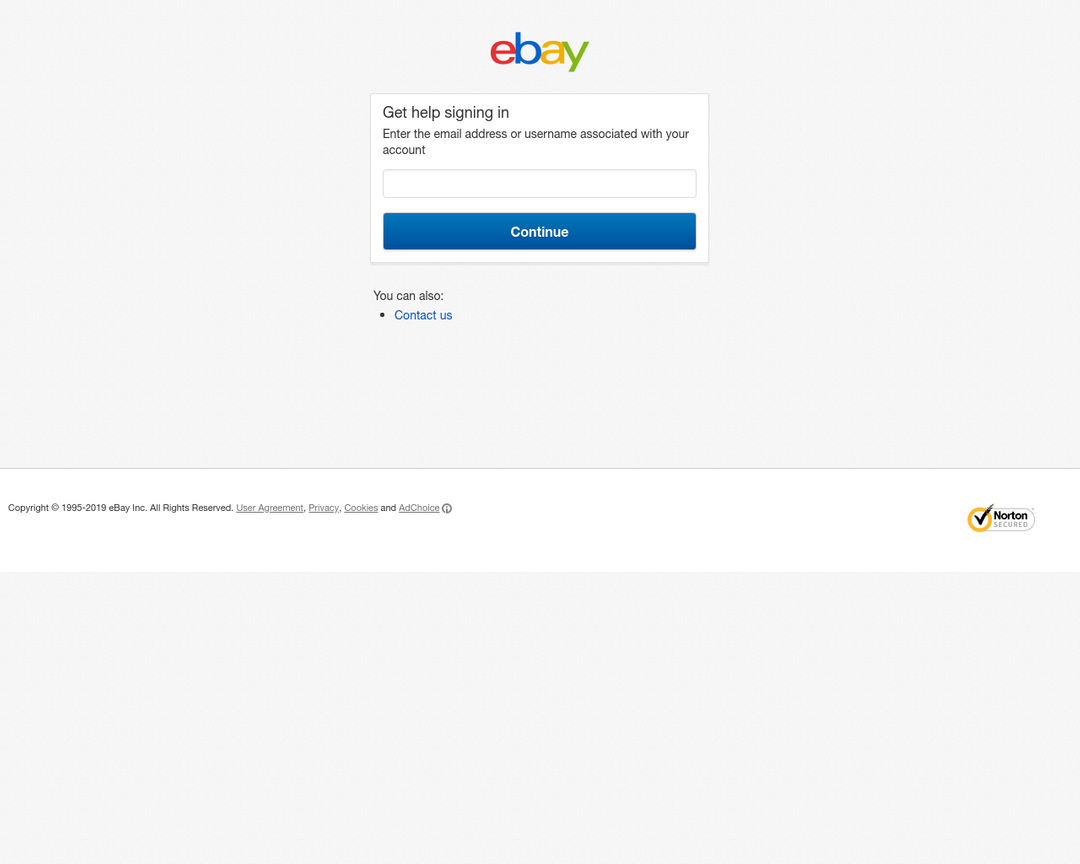Ebay: (487, 29, 594, 77)
